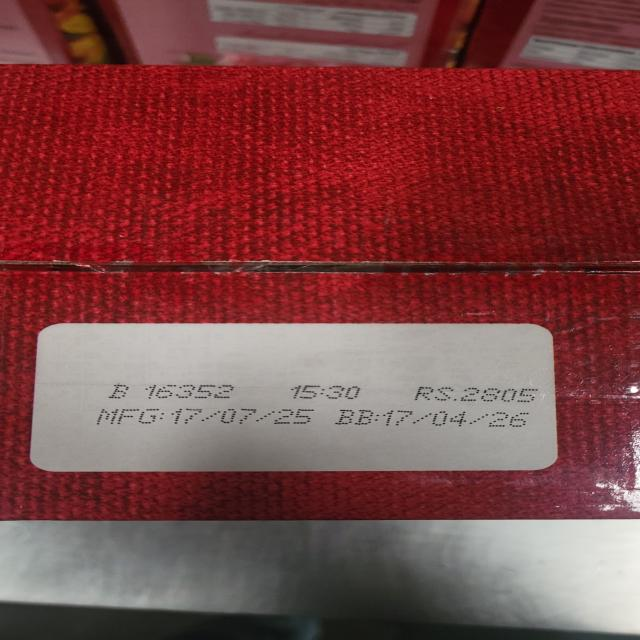BB: (336, 408, 538, 432)
Batch: (109, 382, 248, 402)
MFG: (97, 406, 316, 428)
RS: (414, 384, 542, 406)
TimeStamp: (291, 382, 363, 403)
